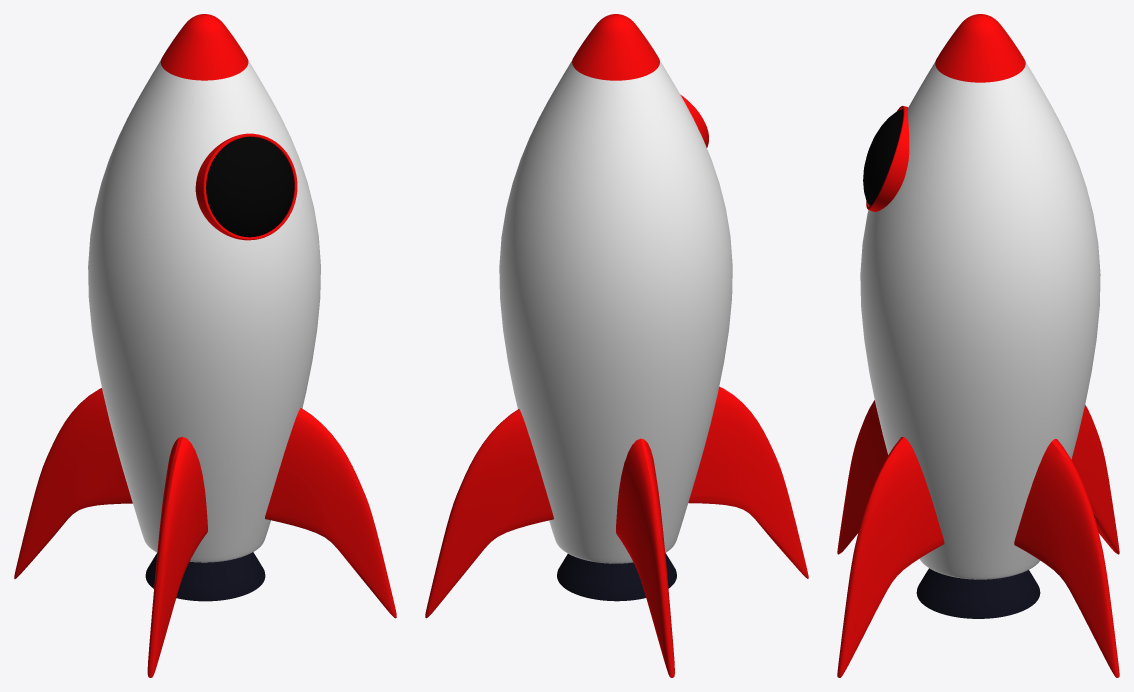
Rendered from toy_rocket.glb.
3 views of the same model, side by side, from view 1: azimuth 30°, elevation 25°; view 2: azimuth 150°, elevation 25°; view 3: azimuth 270°, elevation 25° (orthographic). The views are drawn at different scales.
Visible parts, largest first — view 1: ToyRocket_0; view 2: ToyRocket_0; view 3: ToyRocket_0.
Part boxes in pixels (x1,y1,x2,y2): ToyRocket_0: [14, 14, 396, 677]; ToyRocket_0: [425, 14, 808, 677]; ToyRocket_0: [837, 14, 1119, 677].
Size of the model in its own units: 0.155 by 0.347 by 0.1479.
1 material, 1 textured.
